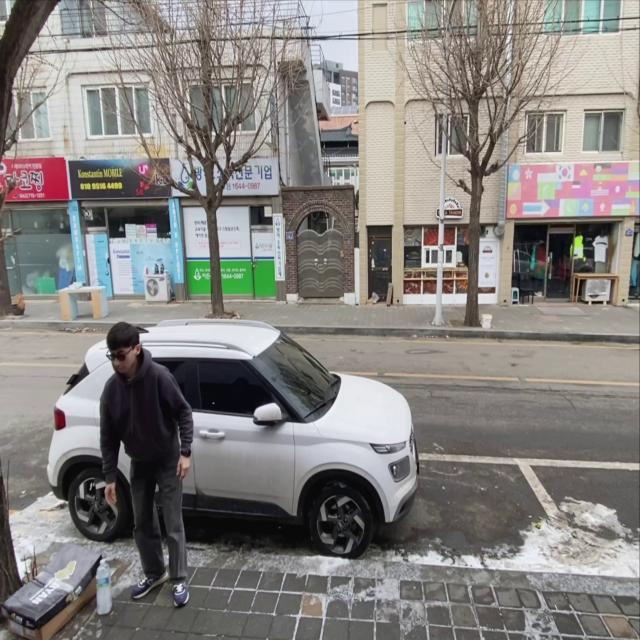bare_hand: (175, 448, 194, 481), (104, 479, 121, 508)
